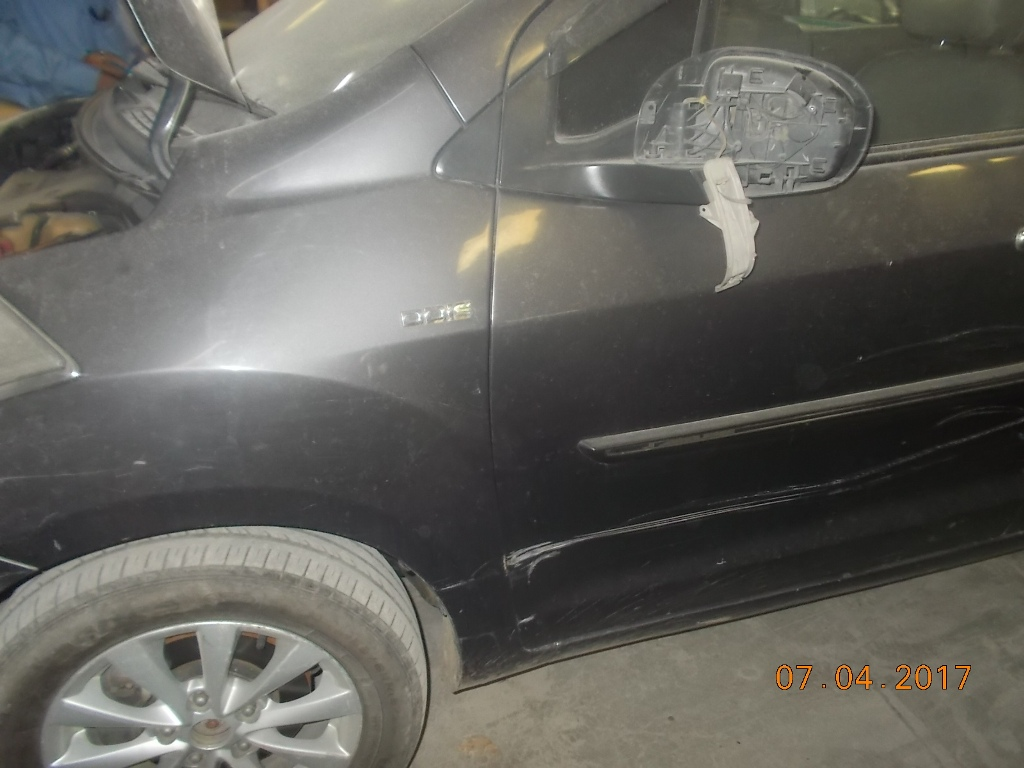Scratch_or_spot: (516, 499, 779, 571)
